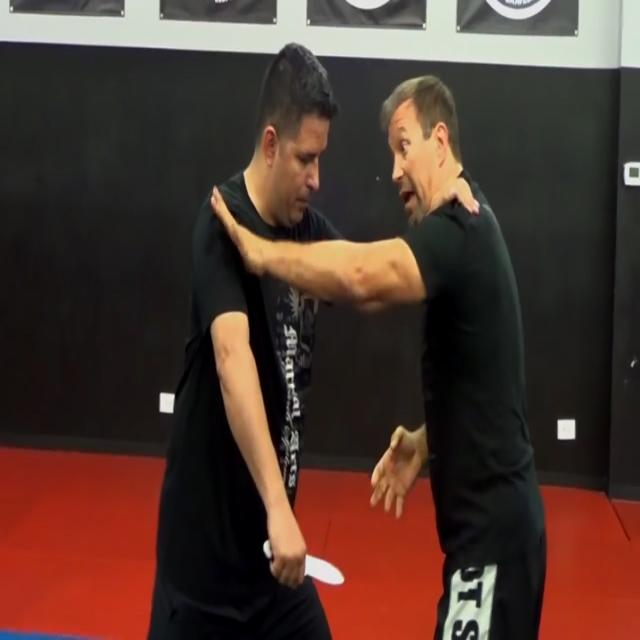knife: (308, 545, 349, 594)
